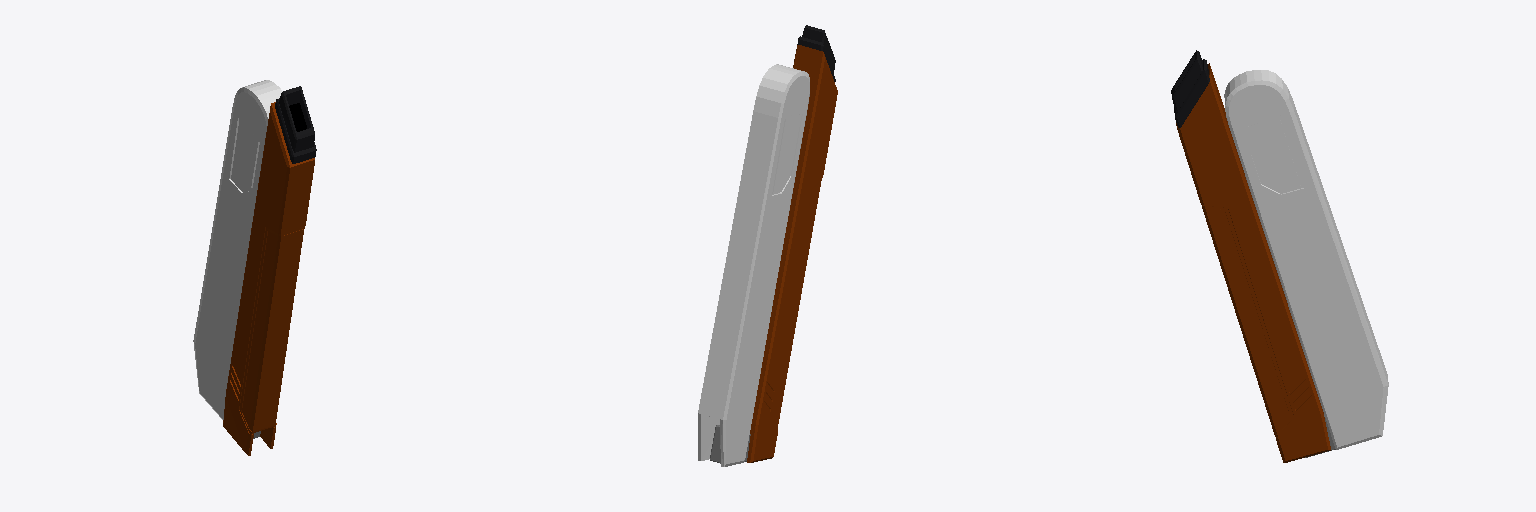
File: leftLegGun.obj
The picture shows the model from 3 angles: view 1: azimuth 30°, elevation 25°; view 2: azimuth 150°, elevation 25°; view 3: azimuth 270°, elevation 25°; orthographic projection.
Parts seen in each view (by area): view 1: leftLegGun freedom:transform18, leftLegGun freedom:transform17, leftLegGun freedom:ChafCaja1246, leftLegGun freedom:ChafCaja1245; view 2: leftLegGun freedom:transform17, leftLegGun freedom:transform18; view 3: leftLegGun freedom:transform17, leftLegGun freedom:transform18, leftLegGun freedom:ChafCaja1246, leftLegGun freedom:ChafCaja1245.
Boxes of the visible parts, box(x1,y1,x2,y2) form: leftLegGun freedom:transform18: box(223, 102, 314, 455); leftLegGun freedom:transform17: box(193, 80, 282, 419); leftLegGun freedom:ChafCaja1246: box(279, 86, 314, 152); leftLegGun freedom:ChafCaja1245: box(275, 98, 316, 163); leftLegGun freedom:transform17: box(698, 64, 809, 466); leftLegGun freedom:transform18: box(747, 45, 837, 462); leftLegGun freedom:transform17: box(1224, 70, 1388, 449); leftLegGun freedom:transform18: box(1176, 63, 1330, 462); leftLegGun freedom:ChafCaja1246: box(1171, 50, 1202, 112); leftLegGun freedom:ChafCaja1245: box(1174, 59, 1209, 127).
Size of the model in its own units: 5.68 by 50.3 by 24.82.